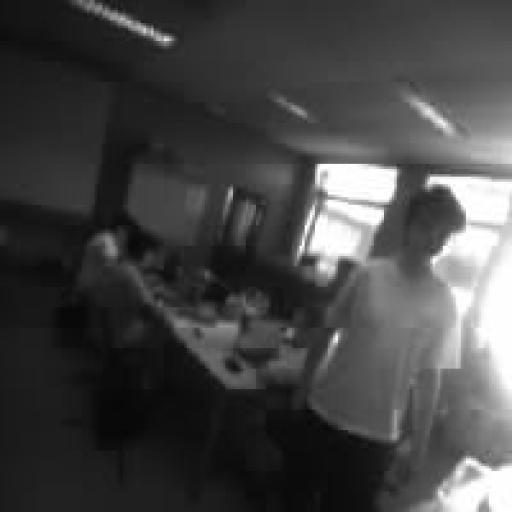human: (282, 187, 465, 511), (81, 228, 173, 368), (77, 218, 130, 294)
